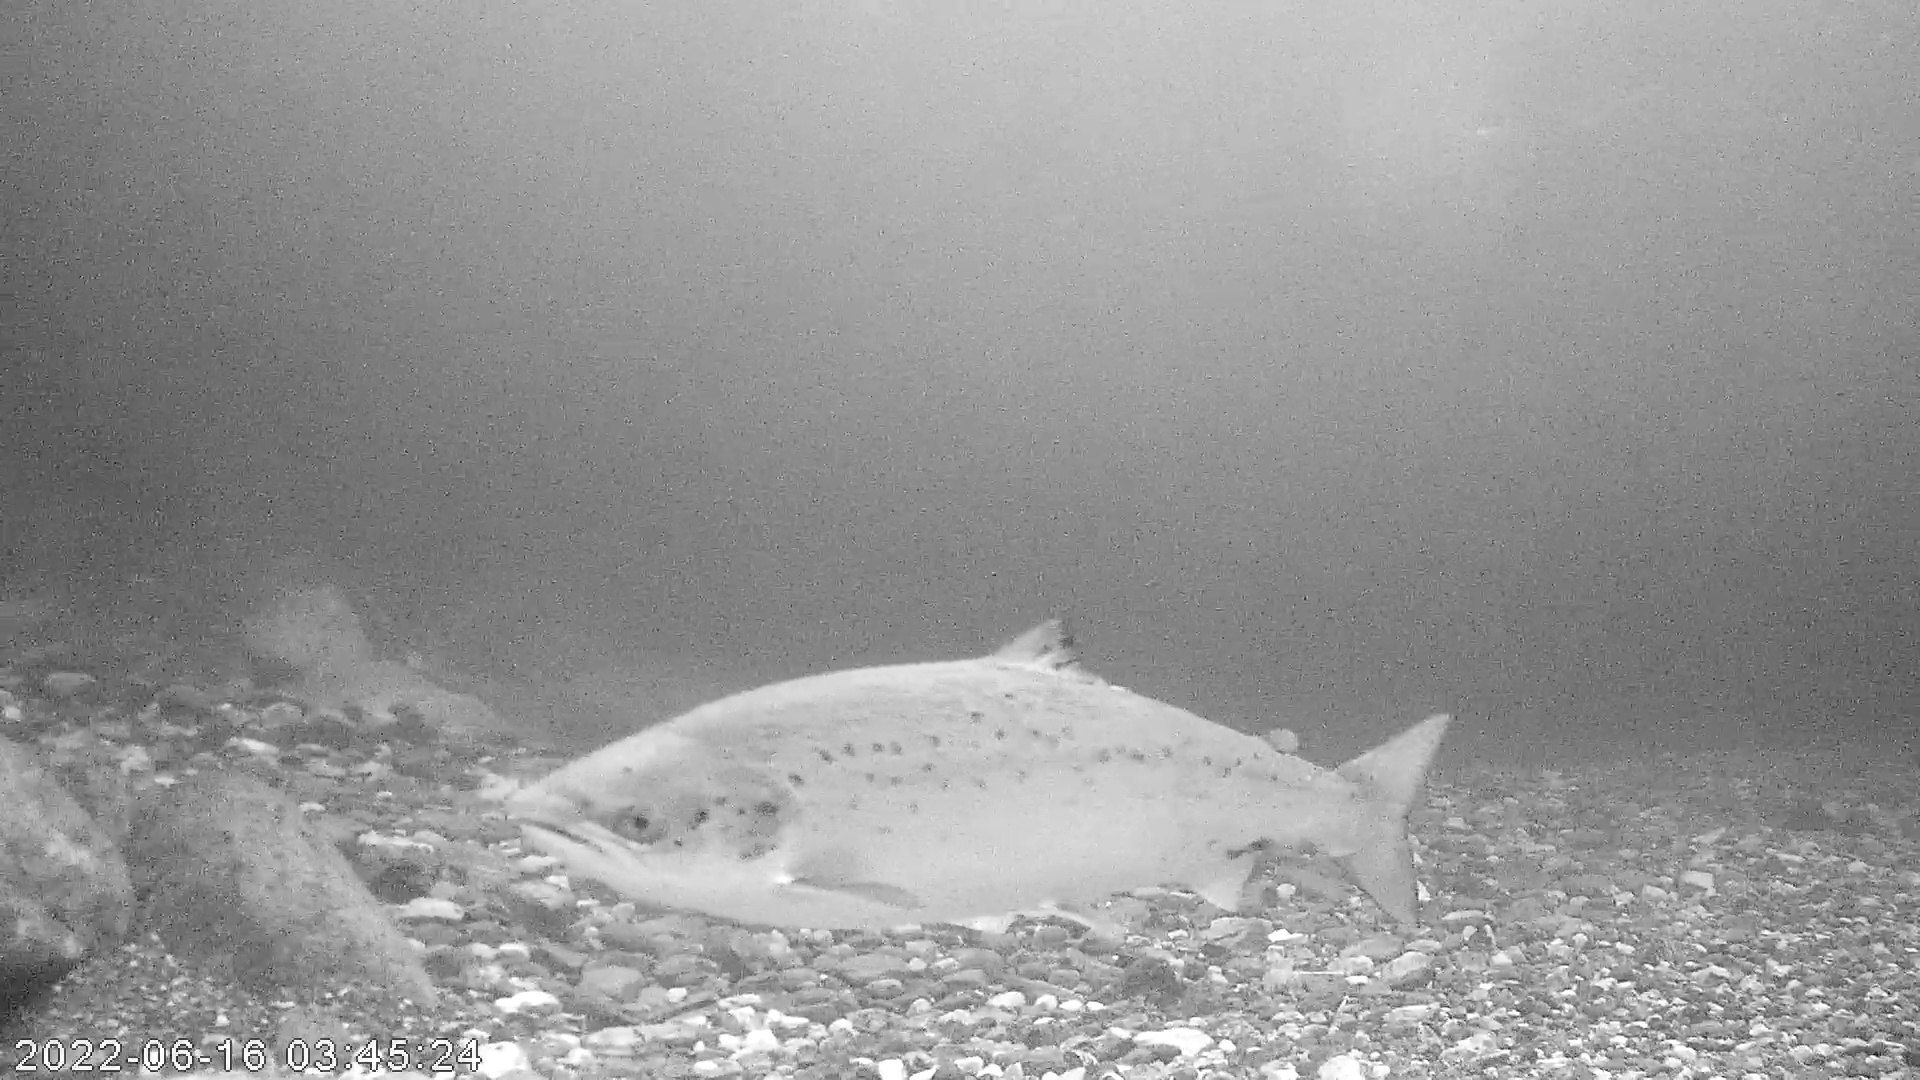salmon: (506, 615, 1456, 934)
